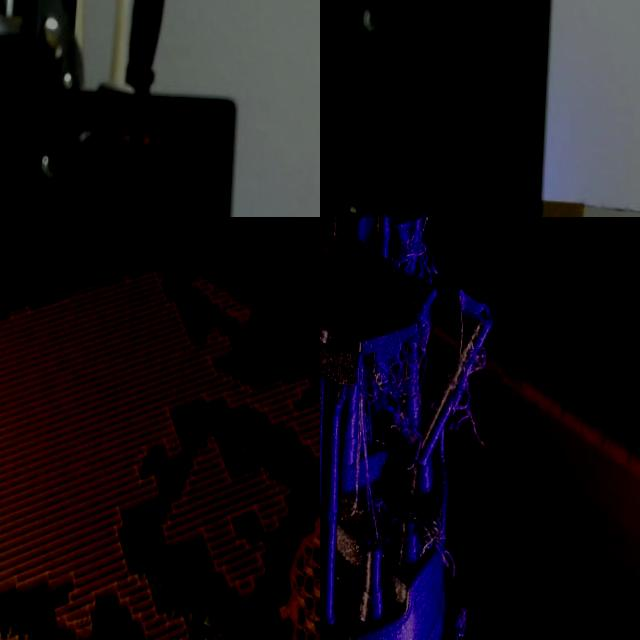spaghetti: (340, 333, 440, 567), (446, 348, 502, 458), (391, 217, 441, 279), (452, 601, 470, 640)
